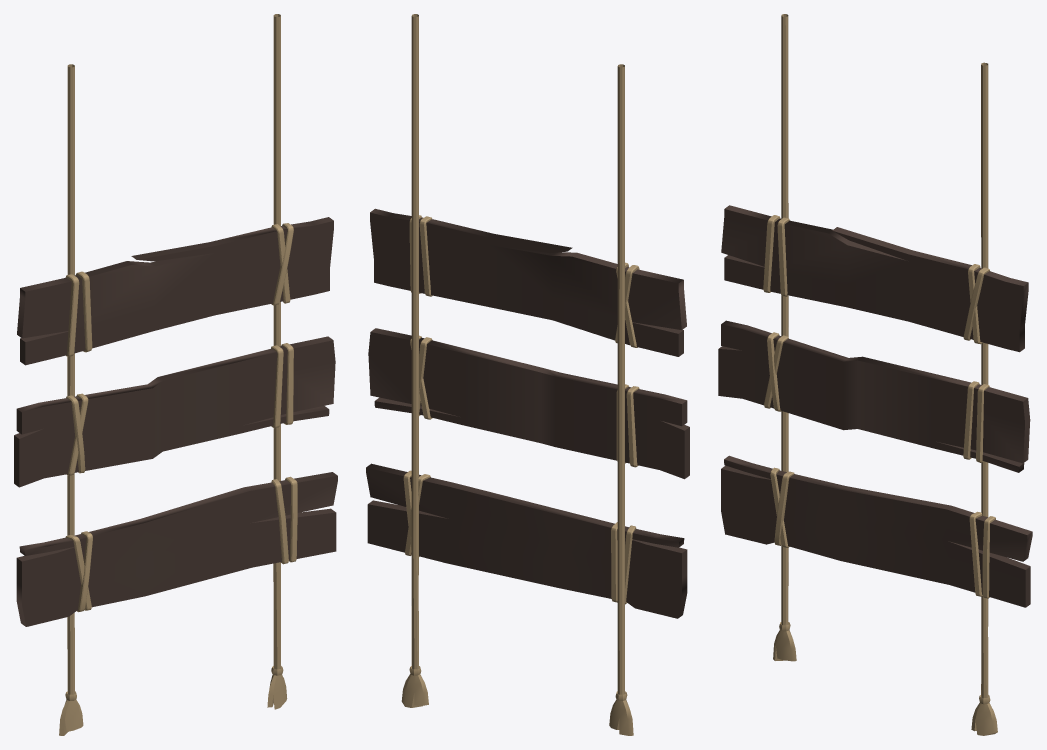
The model's file is WoodSign_Menu.fbx.
3 renders of one model, left to right at view 1: azimuth 30°, elevation 25°; view 2: azimuth 150°, elevation 25°; view 3: azimuth 330°, elevation 25°, orthographic. The views are drawn at different scales.
Visible parts, largest first — view 1: cartello, corda; view 2: cartello, corda; view 3: cartello, corda.
Part boxes in pixels (box(x1,y1,x2,y2)): cartello: box(14, 217, 337, 626); corda: box(59, 14, 297, 735); cartello: box(366, 208, 689, 618); corda: box(401, 14, 639, 735); cartello: box(718, 205, 1032, 607); corda: box(763, 14, 997, 735).
Size of the model in its own units: 3.17 by 6.56 by 0.2465.
